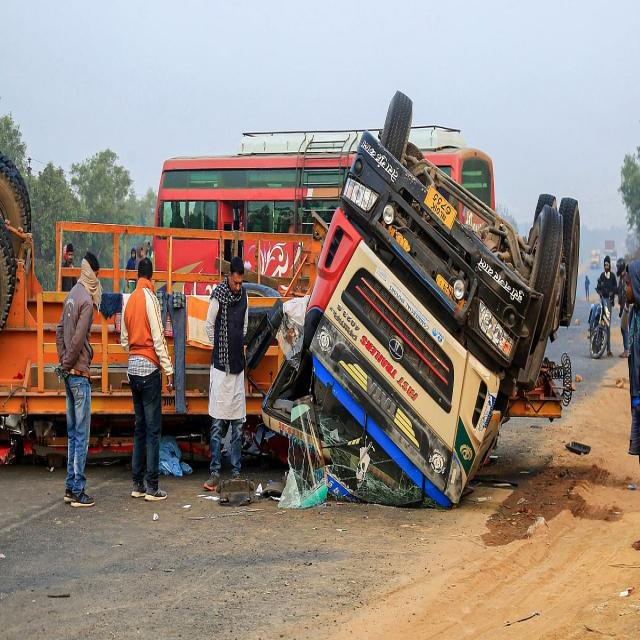accident: (262, 93, 580, 507), (0, 153, 321, 462), (264, 484, 280, 496)
bus: (155, 129, 361, 294)
